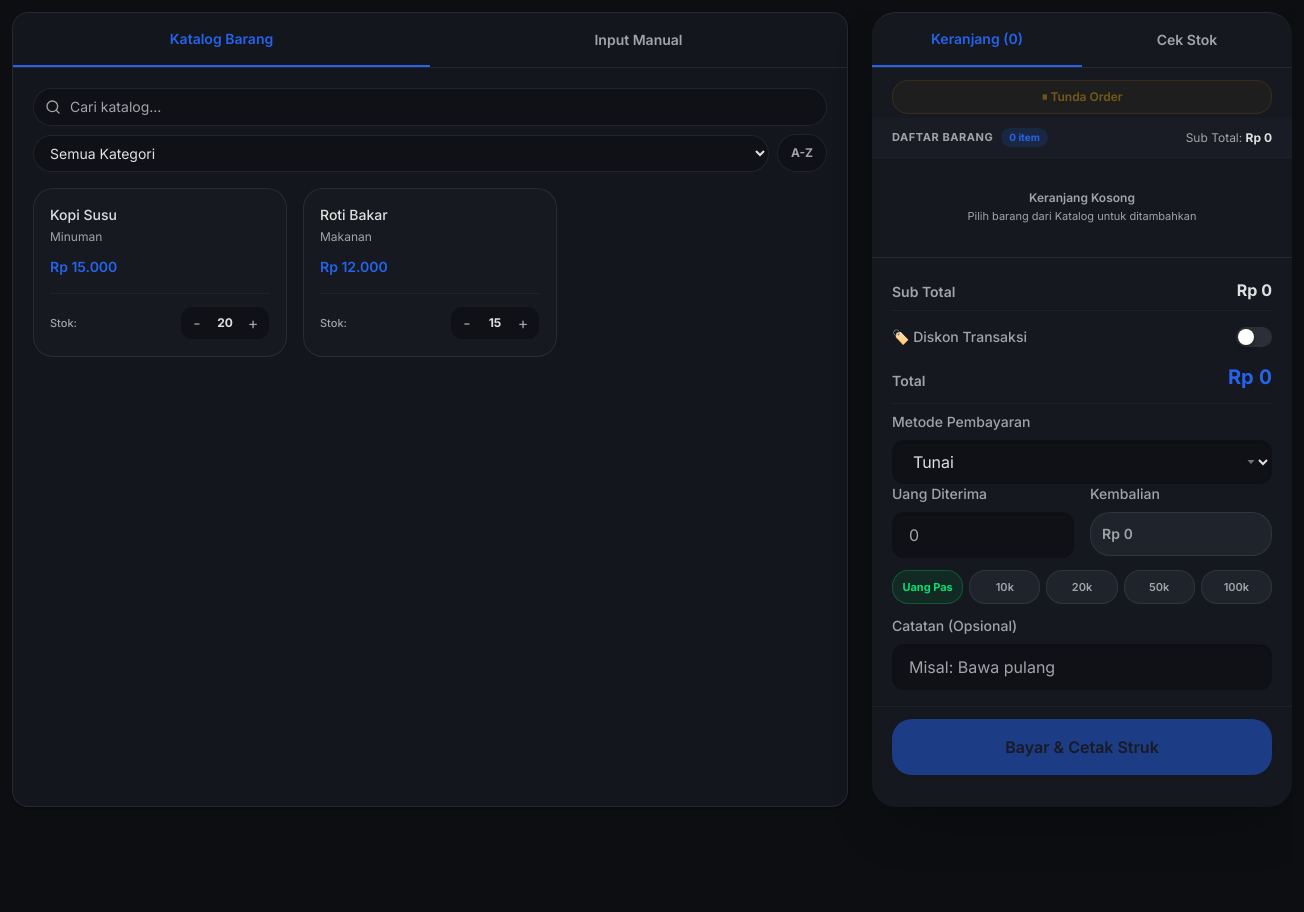
Scenario: Mobile Cart Layout & Pending Orders Persistence › renders Two-Box layout: Kotak A with items & mini info, Kotak B with checkout button
// Add item to cart
Click the text "Kopi Susu".
click(83, 214)  # box 50,206 -> 117,223
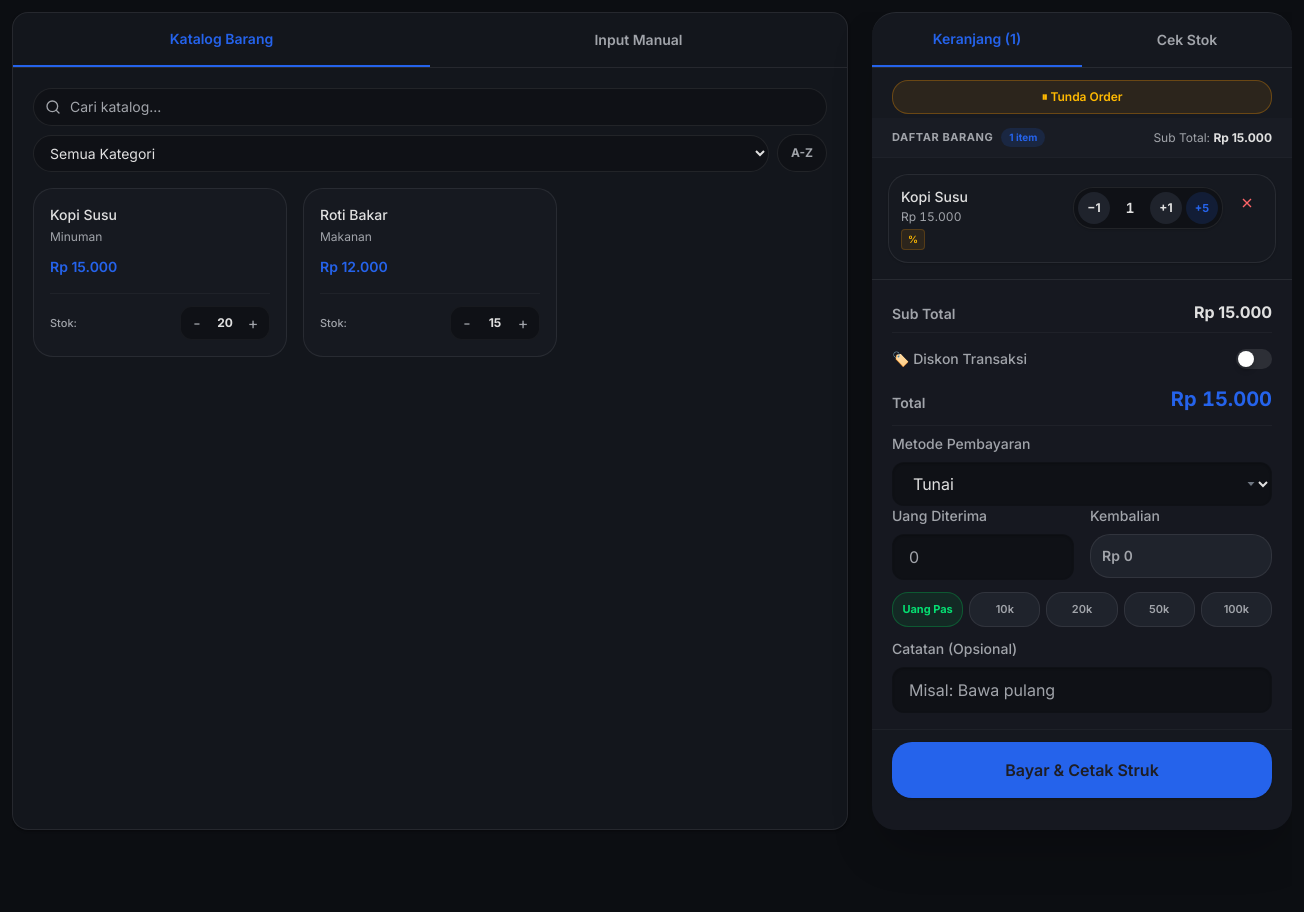
Expected: the text "Daftar Barang" is shown, 892,129 -> 993,146
Expected: the text "1 item" is shown, 1001,128 -> 1045,147
Expected: the button "Bayar & Cetak Struk" is enabled, 892,742 -> 1272,798
